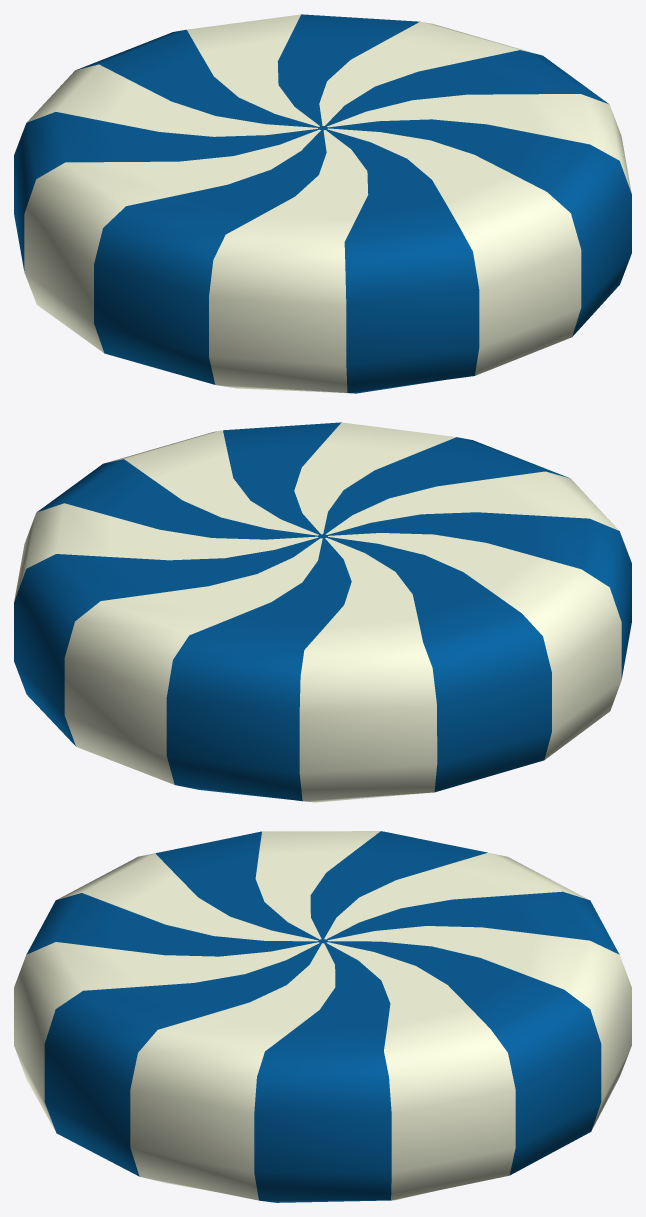
Rendered from candy_hard_10.fbx.
The picture shows the model from 3 angles, top to bottom: view 1: azimuth 30°, elevation 25°; view 2: azimuth 150°, elevation 25°; view 3: azimuth 270°, elevation 25°; orthographic projection.
Parts seen in each view (by area): view 1: c_h_10; view 2: c_h_10; view 3: c_h_10.
Boxes of the visible parts, x1,y1,x2,y2 form: c_h_10: (14,14,631,393); c_h_10: (14,422,631,802); c_h_10: (14,831,631,1202).
Bounding box in the file's own units: 156 × 42.99 × 160.
